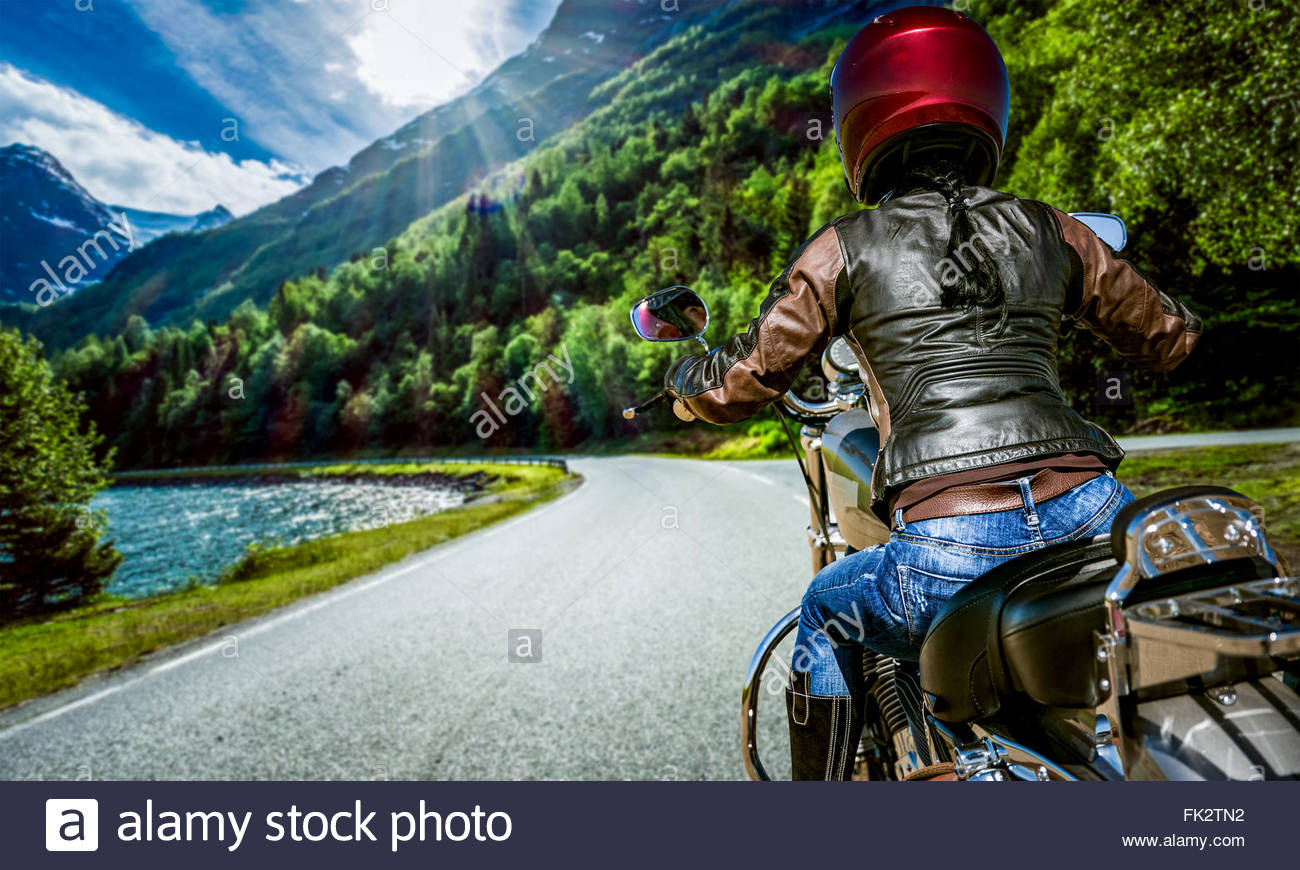helmet: (720, 6, 1271, 591)
